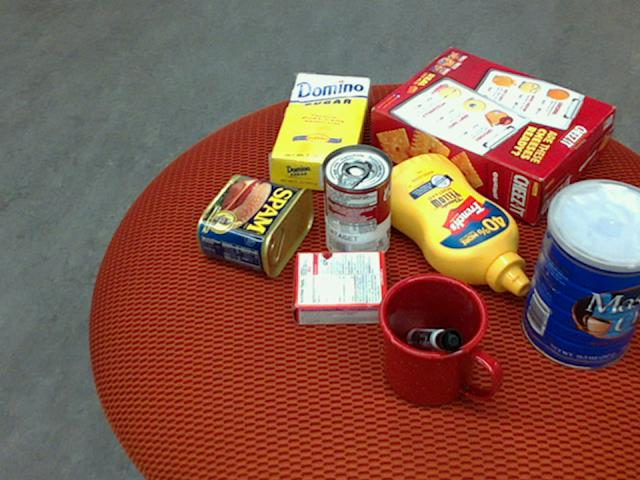cracker_box: (370, 46, 612, 222)
gelatin_box: (289, 252, 384, 326)
large_marker: (406, 327, 461, 350)
master_chef_can: (519, 178, 639, 368)
mug: (374, 272, 497, 406)
mustard_bottle: (370, 153, 528, 296)
potted_meat_can: (195, 174, 313, 277)
sugar_box: (268, 73, 369, 192)
tomato_soup_can: (320, 142, 390, 263)
tuna_fish_can: (551, 193, 639, 273)
